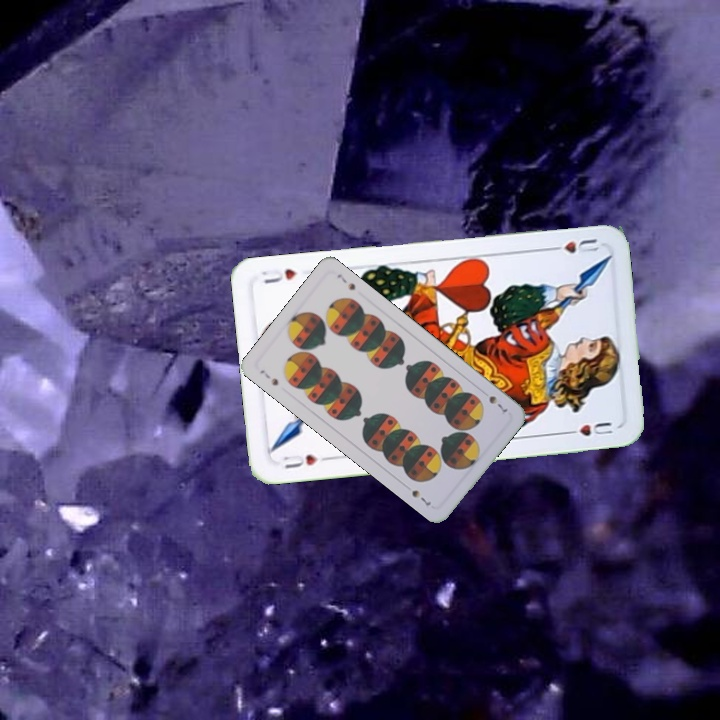HU: (544, 235, 601, 256), (278, 450, 332, 472)
S7: (485, 391, 510, 415), (256, 366, 281, 388)
